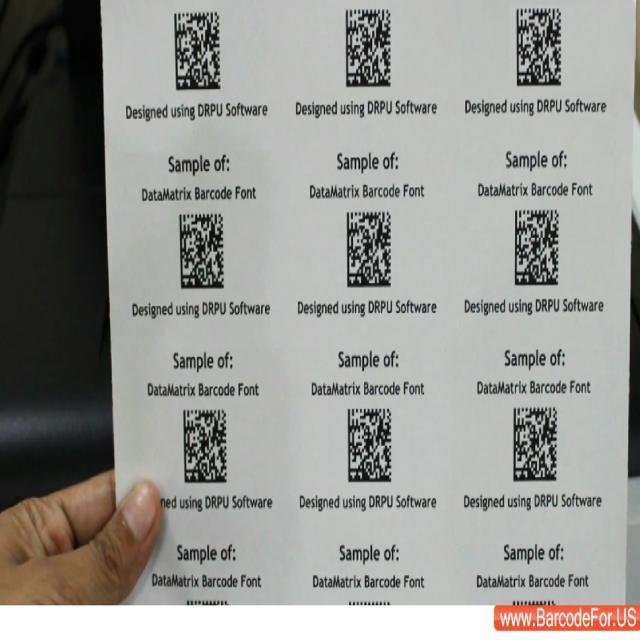Data-Matrix: (344, 4, 393, 90), (512, 206, 563, 288), (173, 8, 222, 93), (515, 4, 563, 87), (345, 206, 393, 289), (178, 209, 226, 291), (347, 403, 393, 485), (512, 403, 559, 483), (182, 405, 228, 483)
